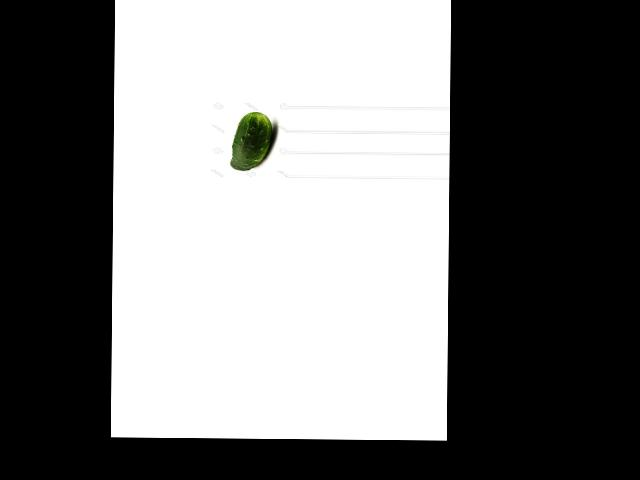cucumber: (230, 111, 272, 171)
